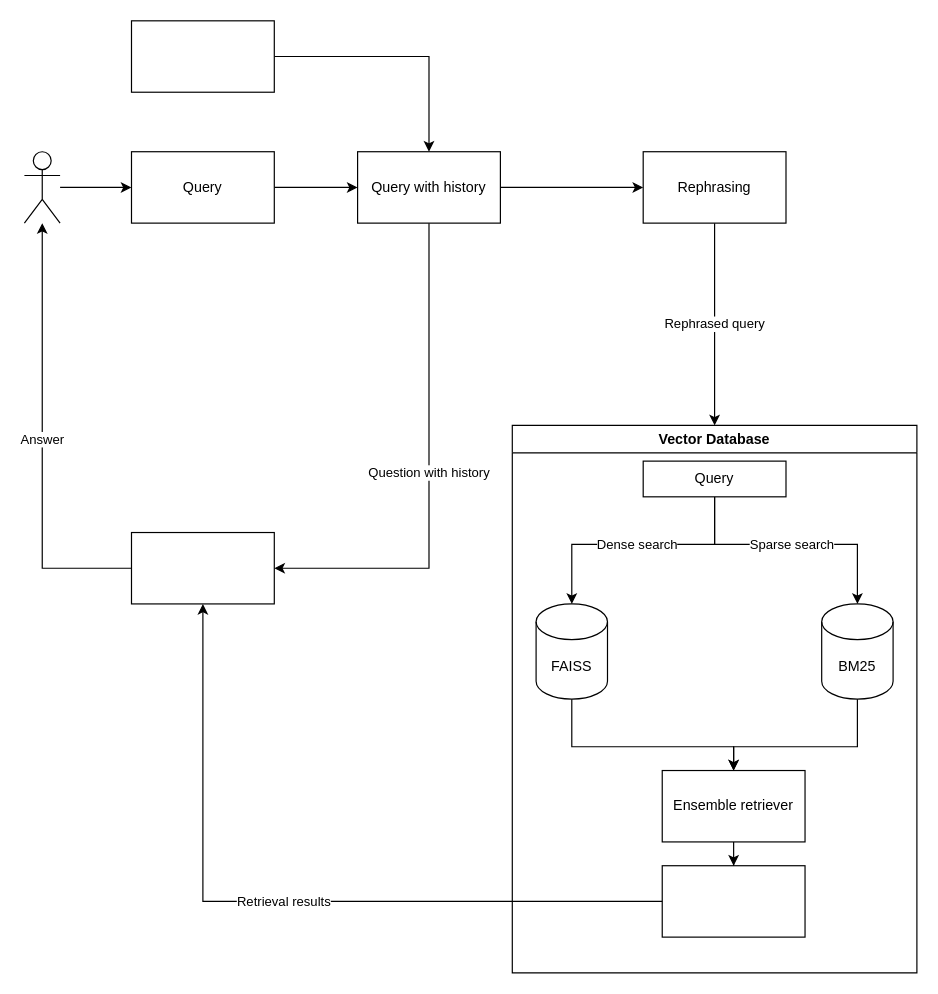
The diagram is 938 pixels wide and 994 high, and some of its shapes have lost their labels. The centre of each missing label's shape, as x and y in pixels:
"Chat h istory" goes at (x=202, y=56).
"LLM" goes at (x=202, y=567).
"Reranker" goes at (x=733, y=901).
"User" goes at (x=41, y=187).
